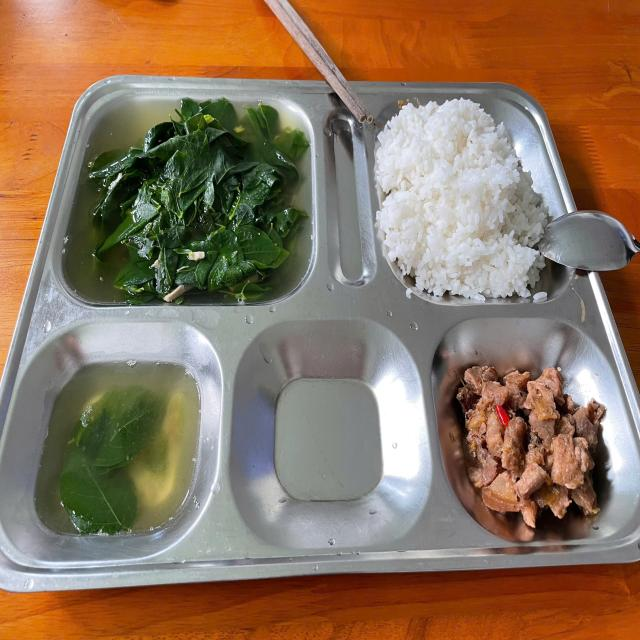canhrau: (59, 96, 314, 307), (33, 362, 197, 537)
salad: (378, 101, 544, 298)
thitkhogung: (458, 357, 620, 523)
